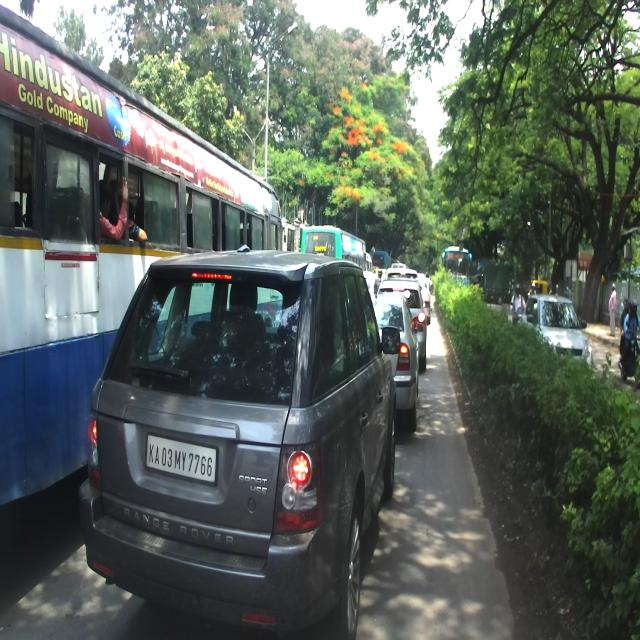car ahead at: (88, 262, 400, 632)
